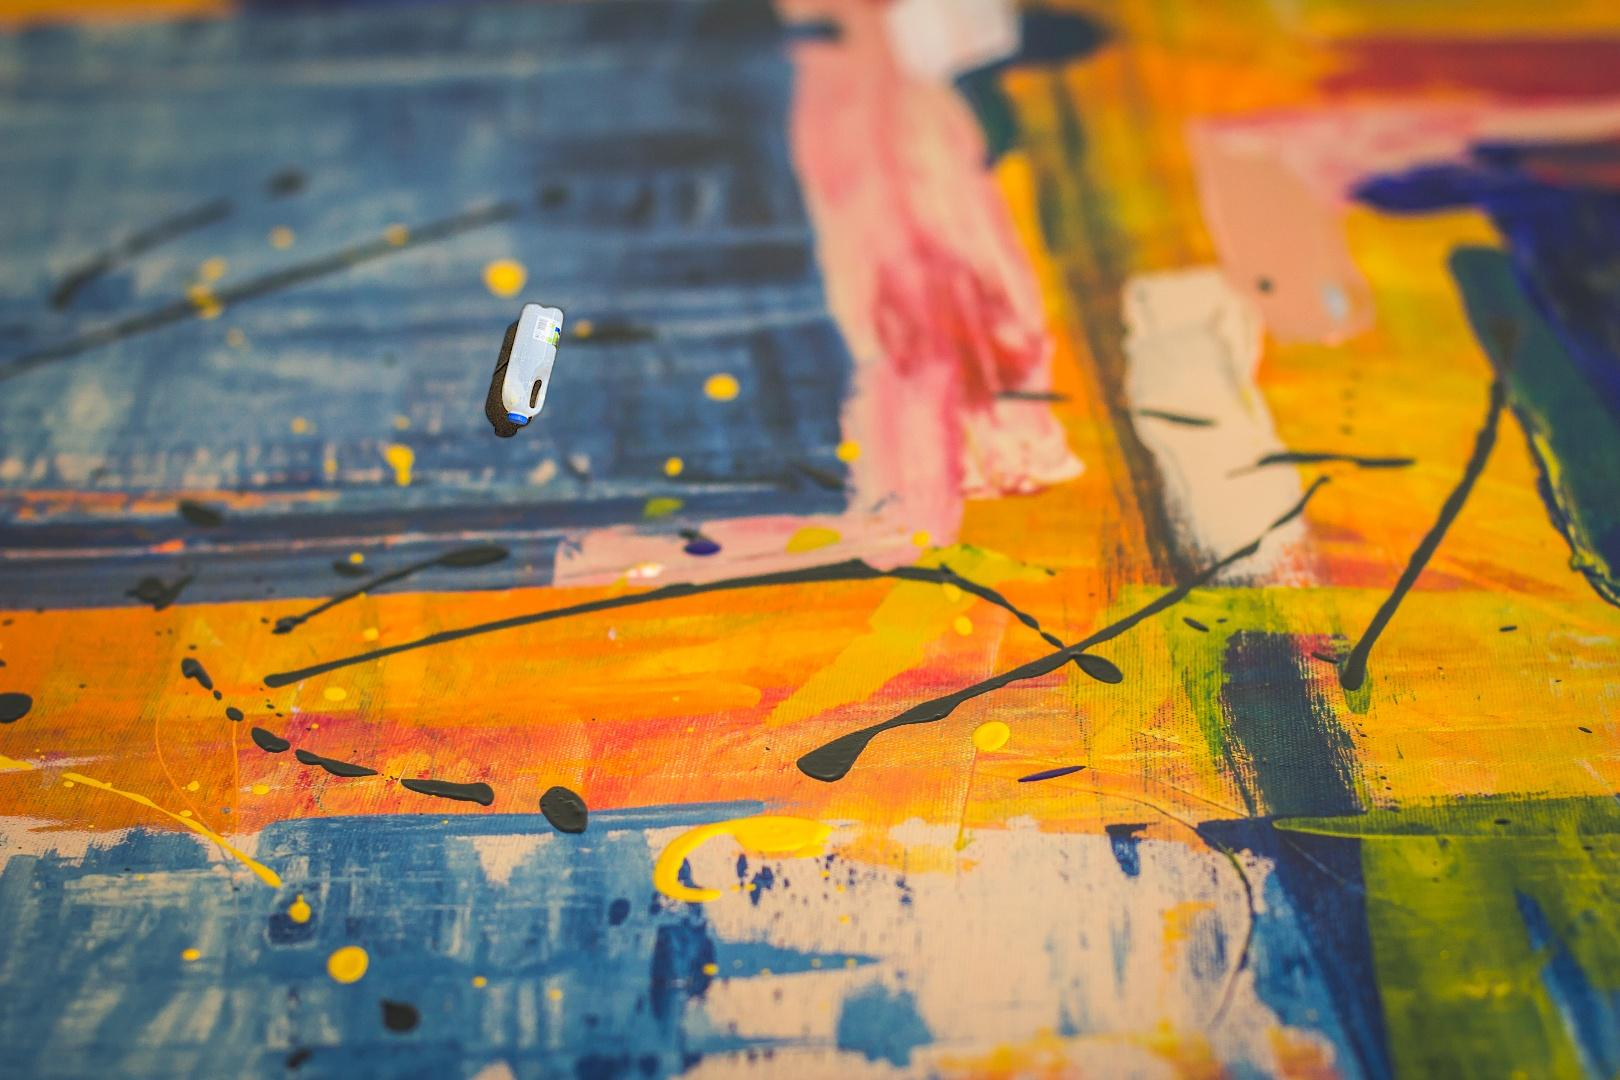plastic-bottles: (481, 282, 594, 444)
